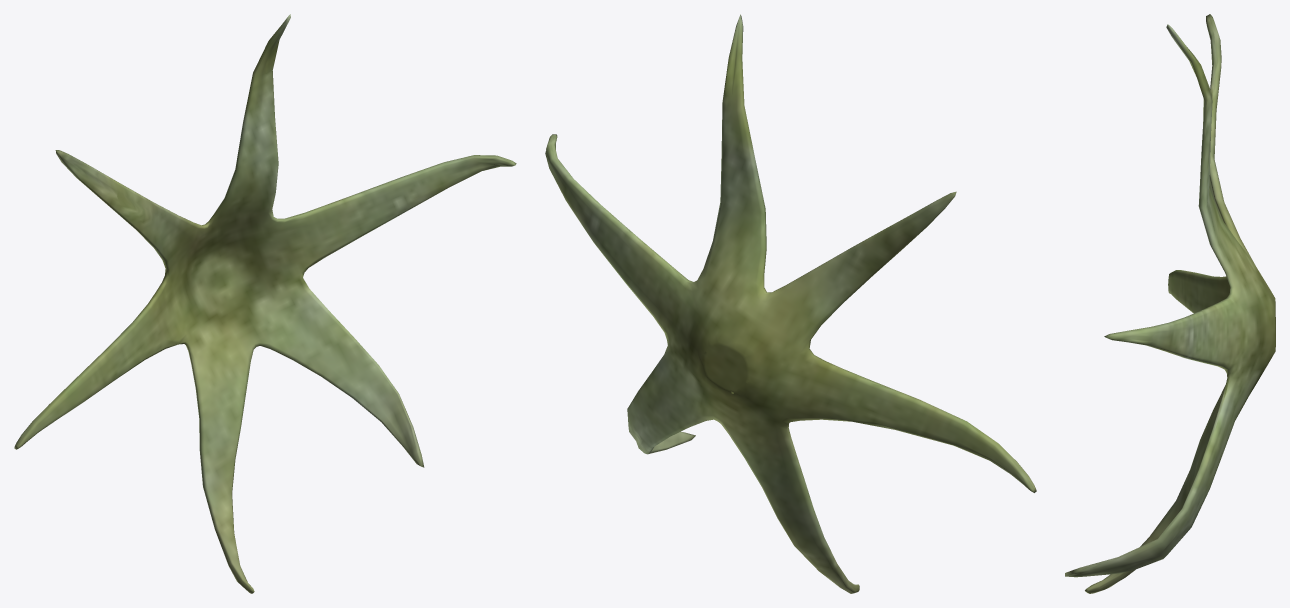
Rendered from YellowTomatoCalyx.obj.
The picture shows the model from 3 angles, left to right: view 1: azimuth 30°, elevation 25°; view 2: azimuth 150°, elevation 25°; view 3: azimuth 270°, elevation 25°; orthographic projection. The views are drawn at different scales.
Parts seen in each view (by area): view 1: YellowTomatoCalyx; view 2: YellowTomatoCalyx; view 3: YellowTomatoCalyx.
Part boxes in pixels (<box>): YellowTomatoCalyx: <box>14,14,516,593</box>; YellowTomatoCalyx: <box>545,14,1036,593</box>; YellowTomatoCalyx: <box>1065,14,1275,593</box>.
Bounding box in the file's own units: 0.0419 × 0.0454 × 0.0142.
Materials: 1 (1 with a texture image).
